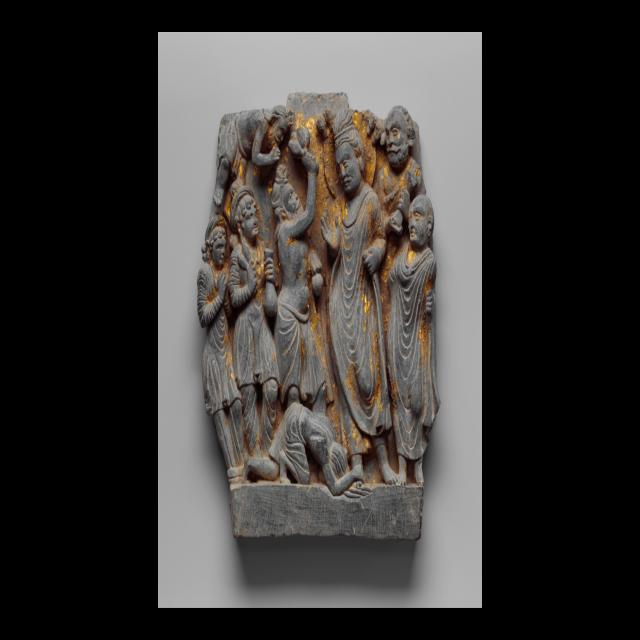buddha-standing: (322, 109, 396, 482)
